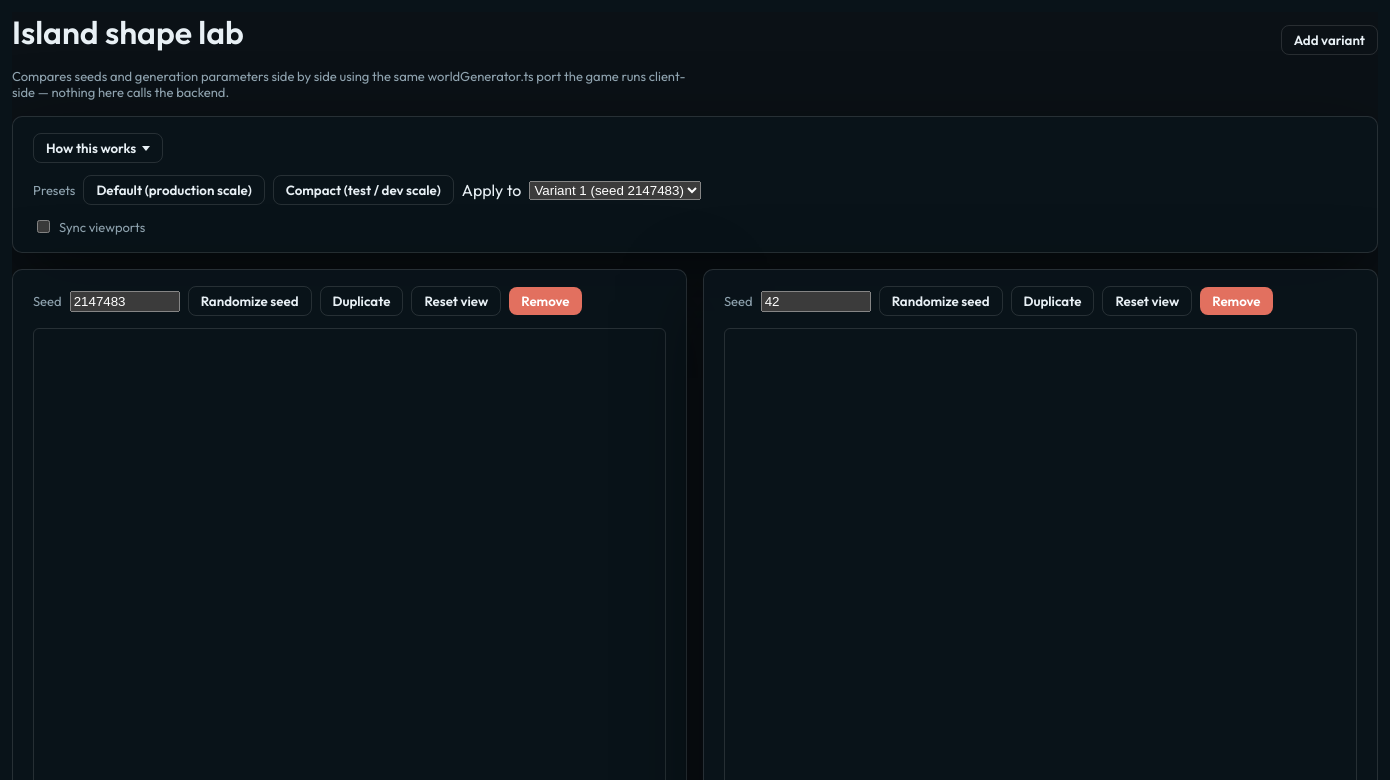
Test case: AdminIslandLabView › duplicating a variant copies its seed and parameters into a new card
Replace the text in the 1st number field labelled "Seed" with "12345" at (125, 301), box [70,290,180,312]
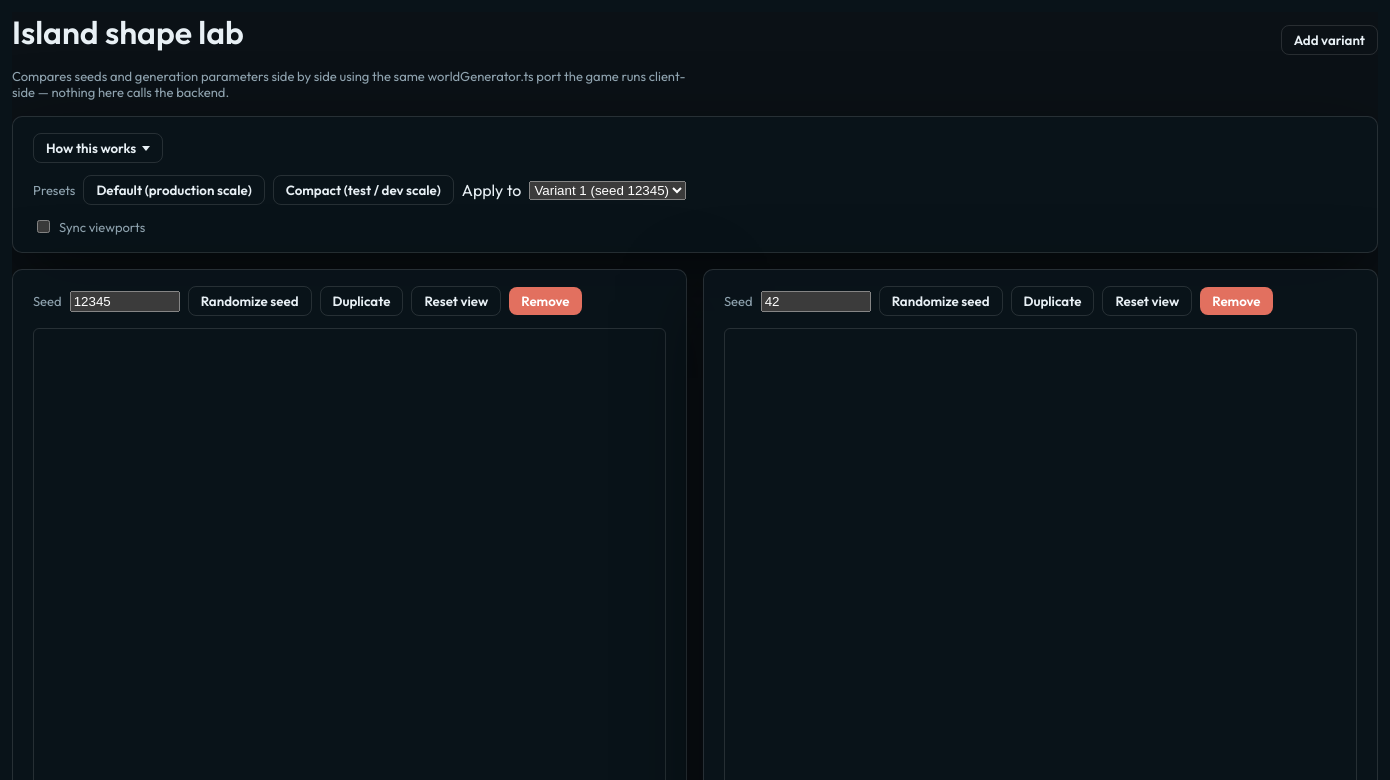
Click the 1st button with test id "duplicate-variant" at (361, 301), box [320,286,403,316]
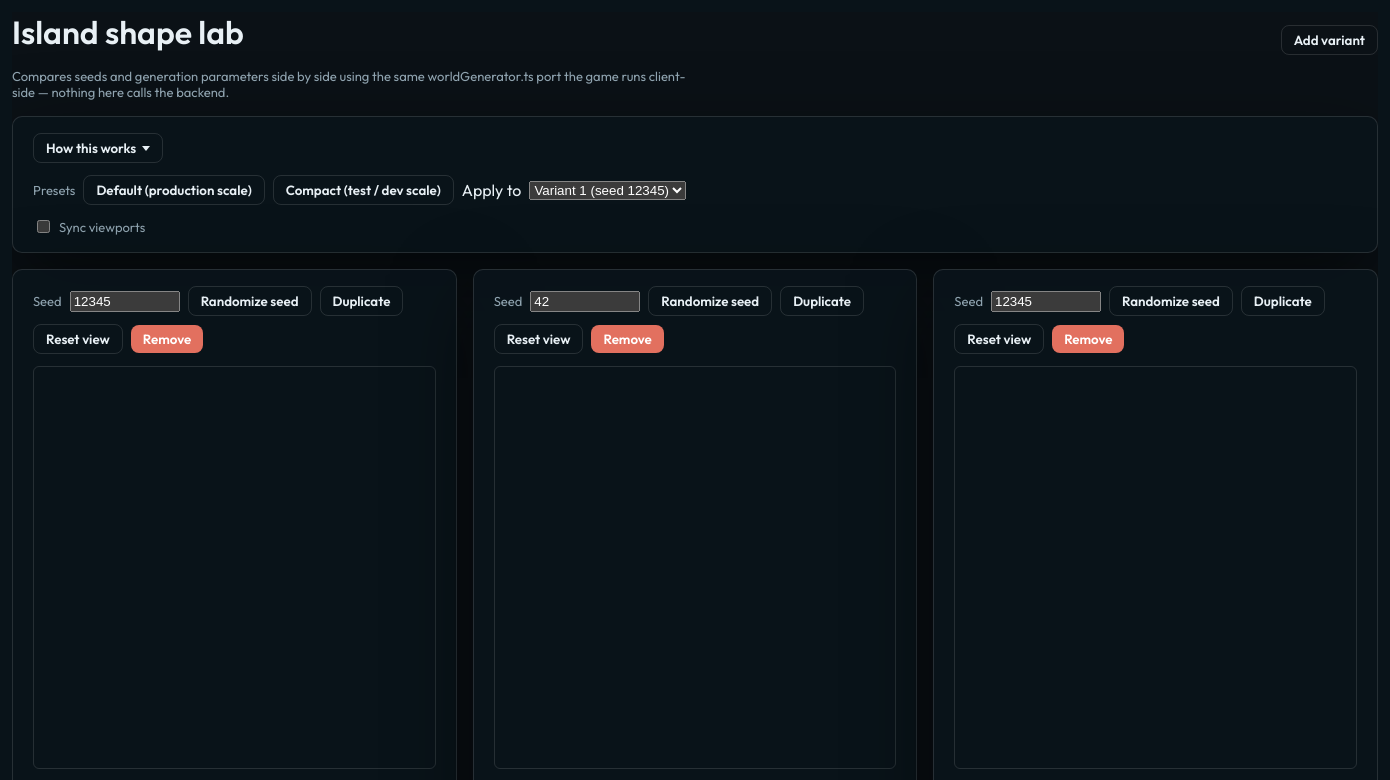
Now the 3rd number field labelled "Seed" holds "12345", box [991,290,1101,312]
